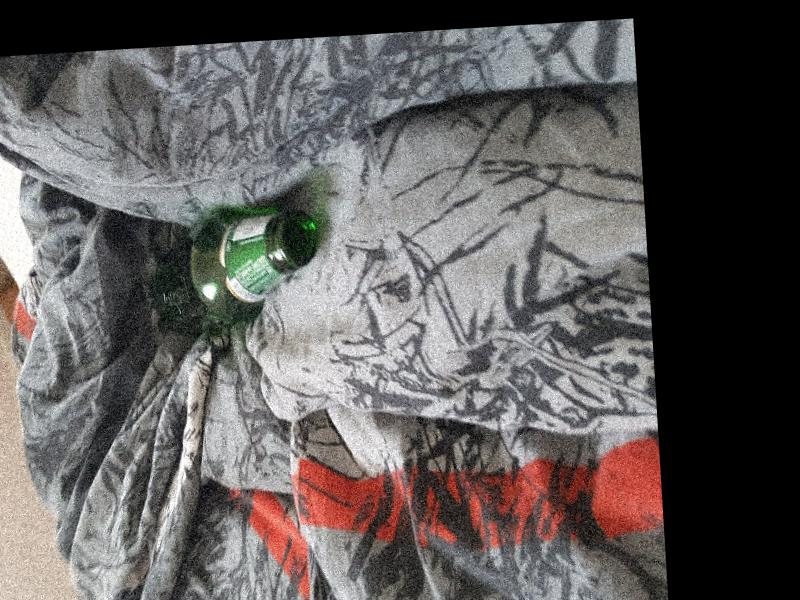Beer: (147, 202, 324, 336)
